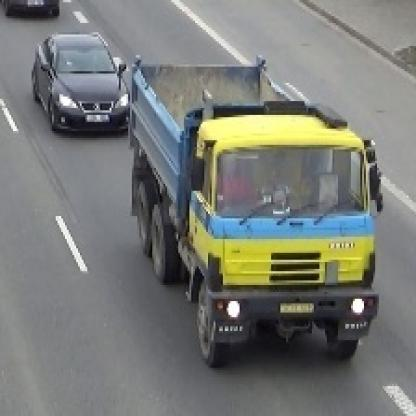truck: (127, 56, 384, 367)
